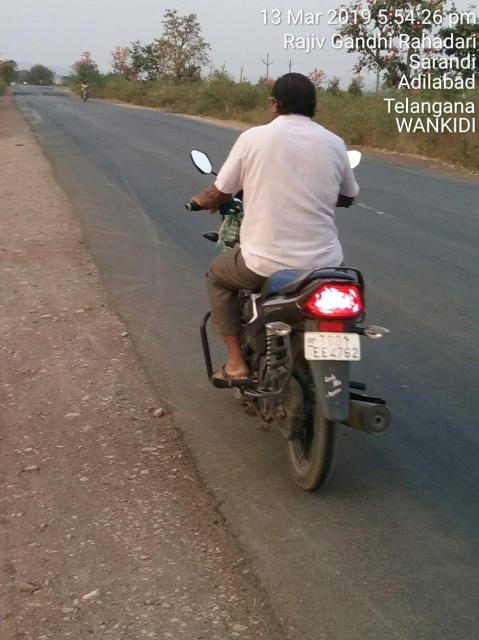motor: (185, 147, 397, 495)
non-helm: (265, 73, 322, 121)
